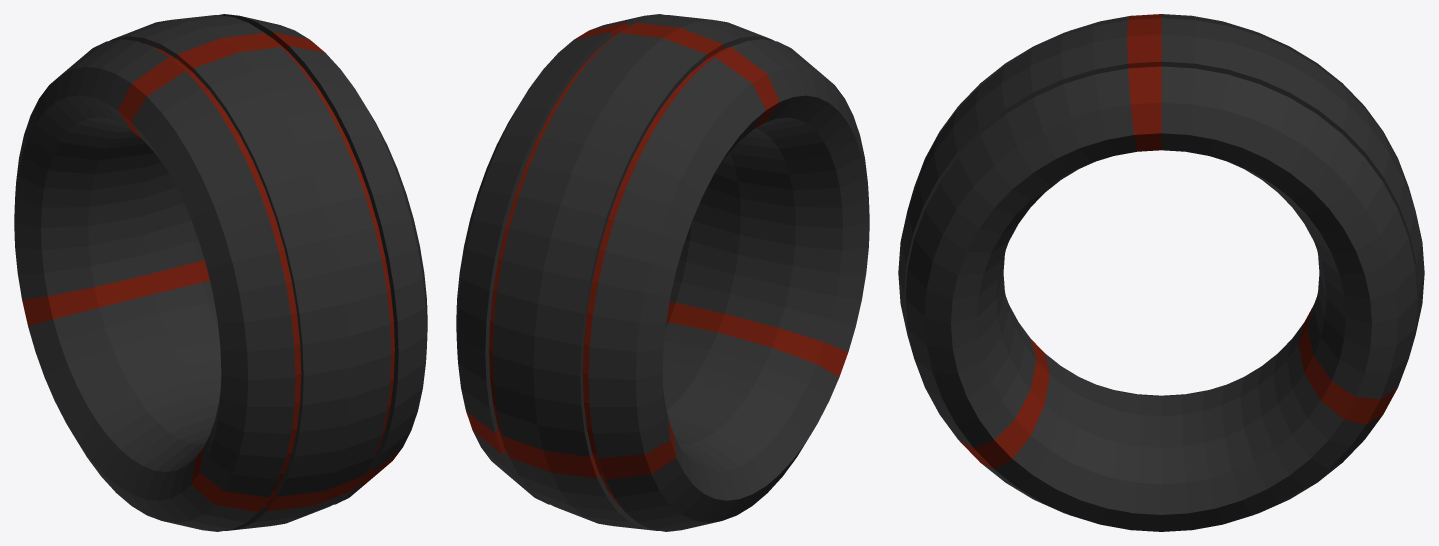
The model's file is Tire.fbx.
The picture shows the model from 3 angles, left to right: view 1: azimuth 30°, elevation 25°; view 2: azimuth 150°, elevation 25°; view 3: azimuth 270°, elevation 25°; orthographic projection.
Visible parts, largest first — view 1: Torus; view 2: Torus; view 3: Torus.
Part boxes in pixels (bbox=[...]): Torus: bbox=[14, 14, 427, 531]; Torus: bbox=[456, 14, 869, 531]; Torus: bbox=[898, 14, 1424, 531].
Size of the model in its own units: 93.15 by 202 by 202.
